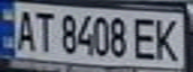0: (90, 12, 112, 57)
4: (75, 11, 93, 56)
8: (109, 13, 130, 60), (57, 10, 78, 55)
A: (12, 6, 36, 52)
E: (130, 14, 160, 61)
K: (151, 15, 184, 62)
T: (30, 8, 57, 53)
